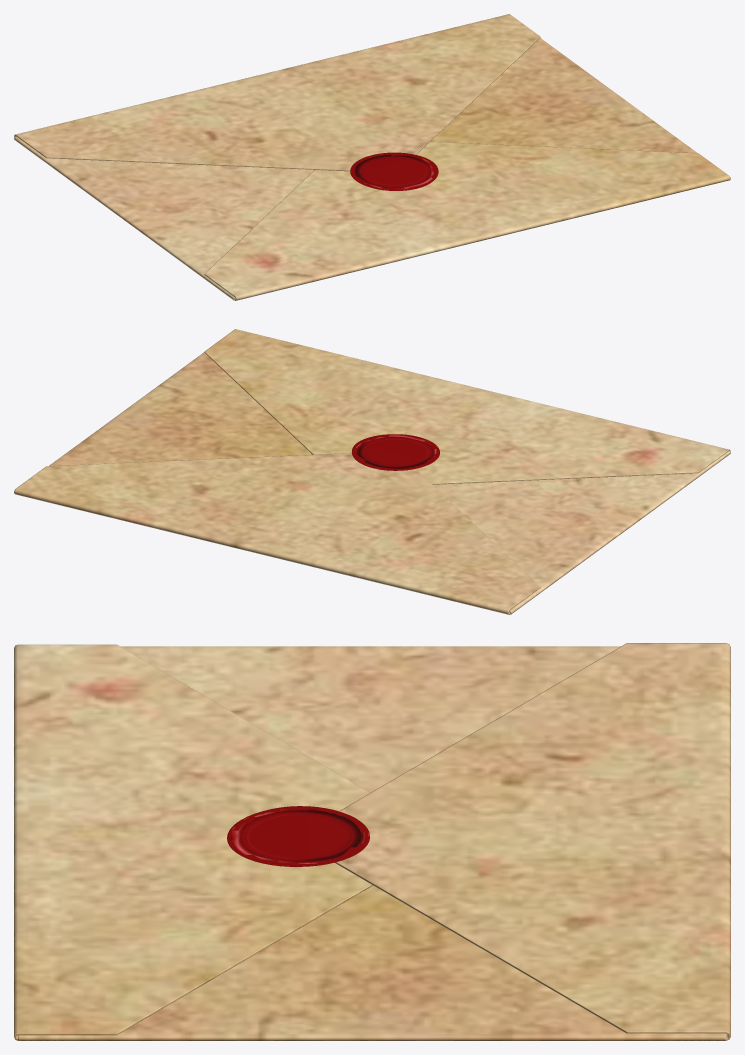
3 renders of one model, top to bottom at view 1: azimuth 30°, elevation 25°; view 2: azimuth 150°, elevation 25°; view 3: azimuth 270°, elevation 25°, orthographic. The views are drawn at different scales.
Parts seen in each view (by area): view 1: envelope-001-a, sticker; view 2: envelope-001-a, sticker; view 3: envelope-001-a, sticker.
Part boxes in pixels (x1,y1,x2,y2): envelope-001-a: [14, 14, 730, 300]; sticker: [350, 152, 438, 190]; envelope-001-a: [14, 329, 730, 614]; sticker: [352, 434, 439, 470]; envelope-001-a: [14, 643, 730, 1040]; sticker: [227, 806, 369, 866].
Size of the model in its own units: 13.07 by 0.1479 by 10.12.
Materials: 2 (2 with a texture image).
